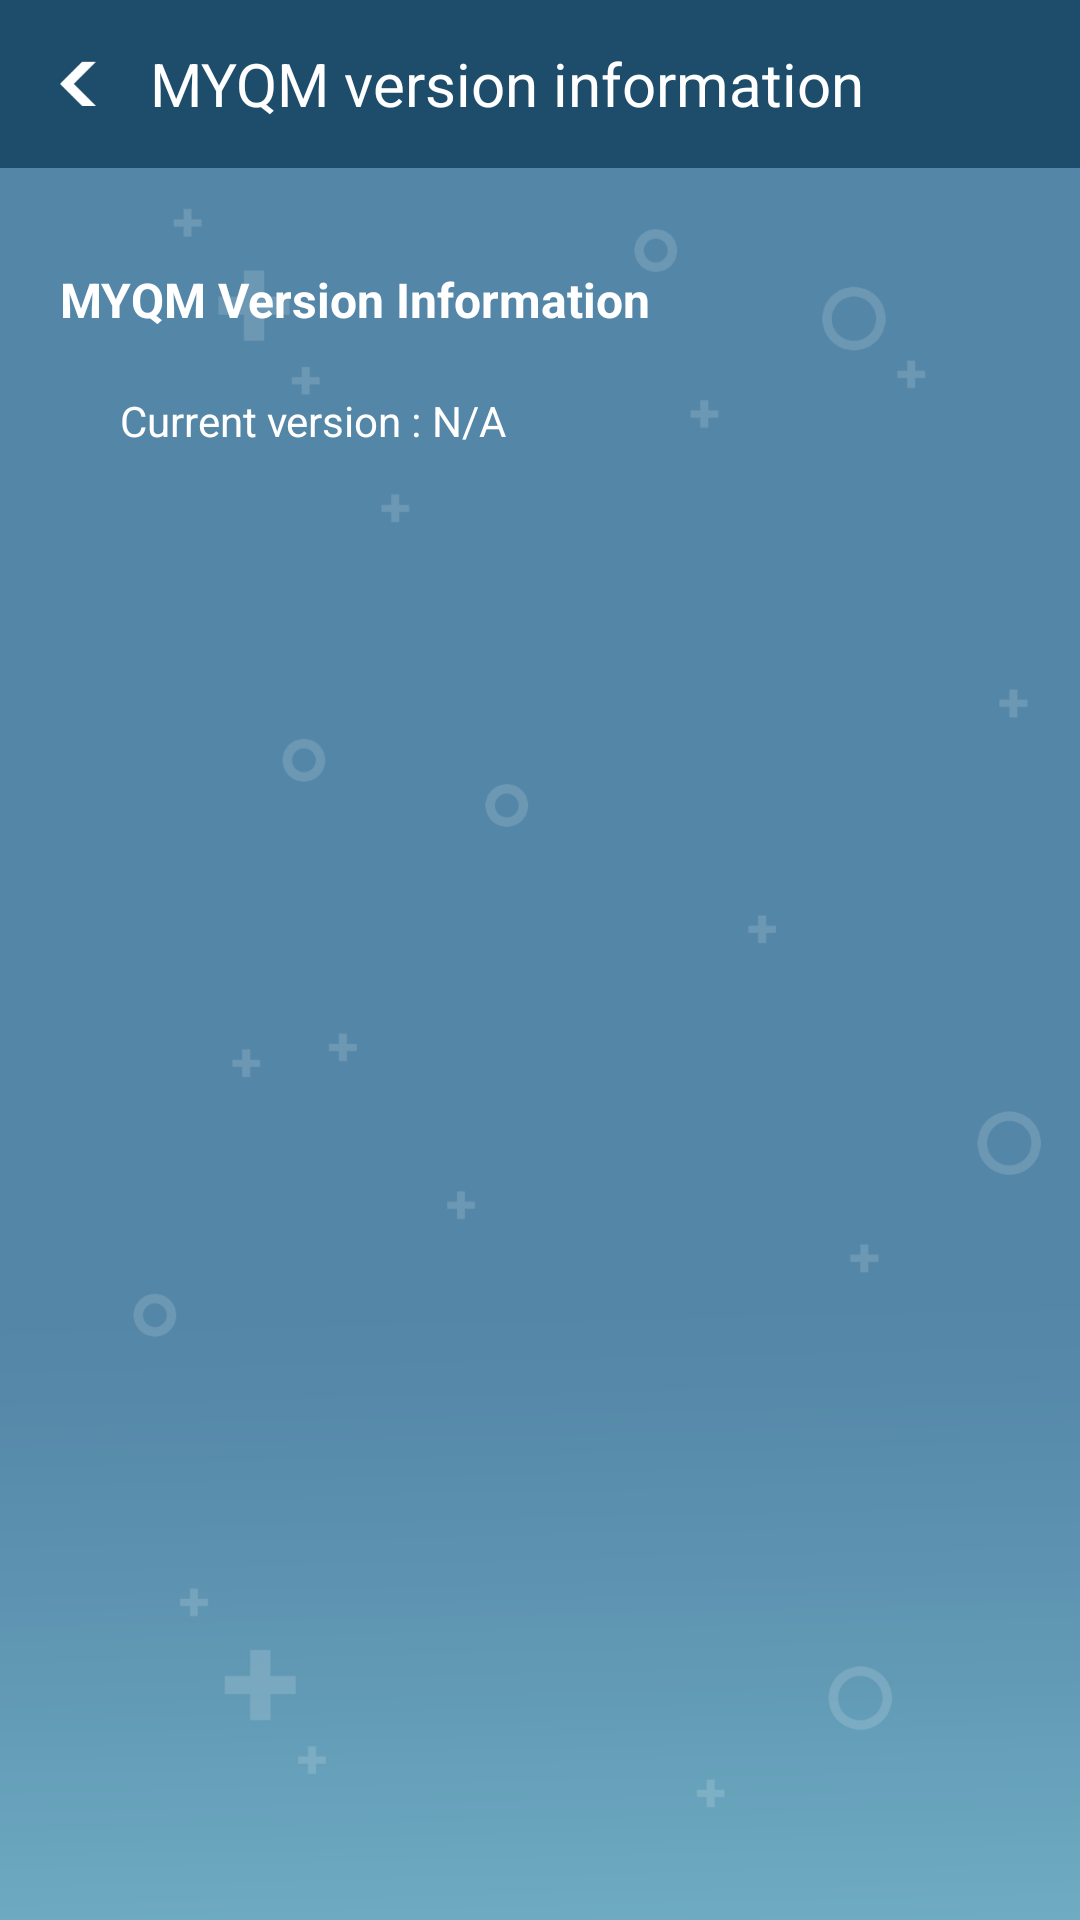

Icon bounding boxes for this 1080 × 1920 phone screenshot, format (x1, y1, x2, y2):
back: (60, 61, 96, 106)
